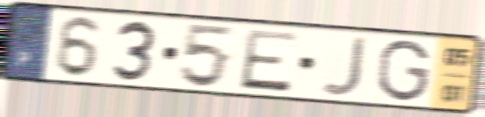3: (109, 18, 158, 83)
5: (179, 21, 239, 90)
6: (54, 14, 104, 80)
E: (236, 28, 301, 95)
G: (375, 38, 433, 104)
J: (318, 35, 370, 99)
